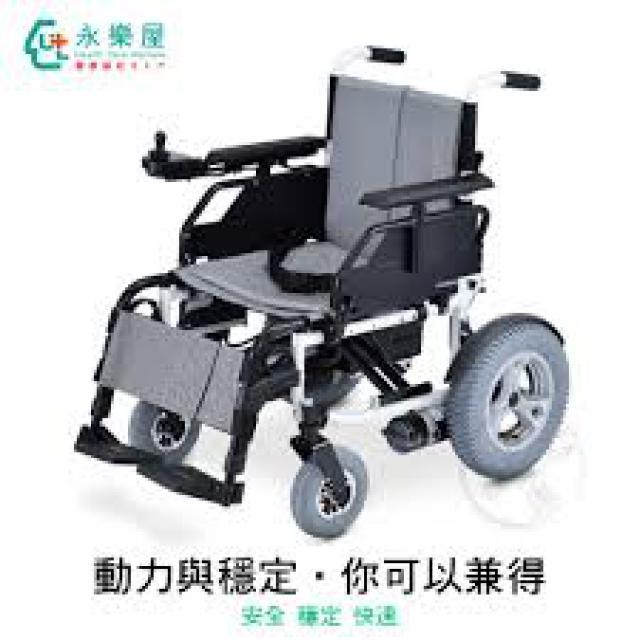wheelchair: (57, 46, 572, 540)
